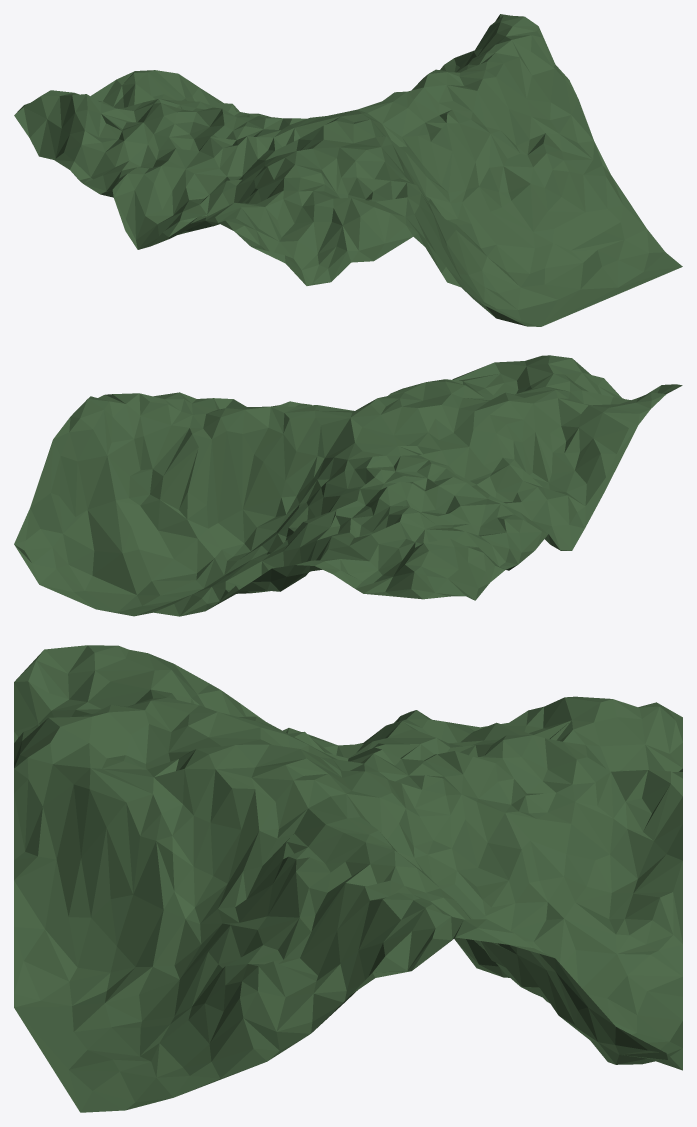
File: SM_landscape_01.fbx
The picture shows the model from 3 angles, top to bottom: view 1: azimuth 30°, elevation 25°; view 2: azimuth 150°, elevation 25°; view 3: azimuth 270°, elevation 25°; orthographic projection. The views are drawn at different scales.
Parts seen in each view (by area): view 1: landscape_01; view 2: landscape_01; view 3: landscape_01.
Part boxes in pixels (x1,y1,x2,y2): landscape_01: (14, 14, 682, 326); landscape_01: (14, 355, 682, 616); landscape_01: (14, 645, 682, 1112).
Size of the model in its own units: 880 by 277 by 880.
